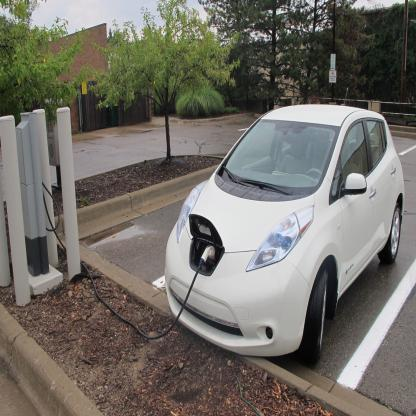Vehicle: (164, 108, 404, 368)
